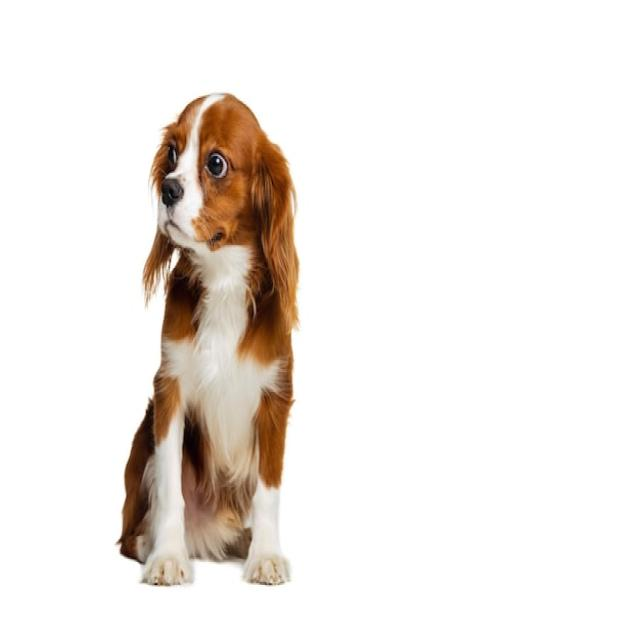Dog: (118, 92, 300, 586)
